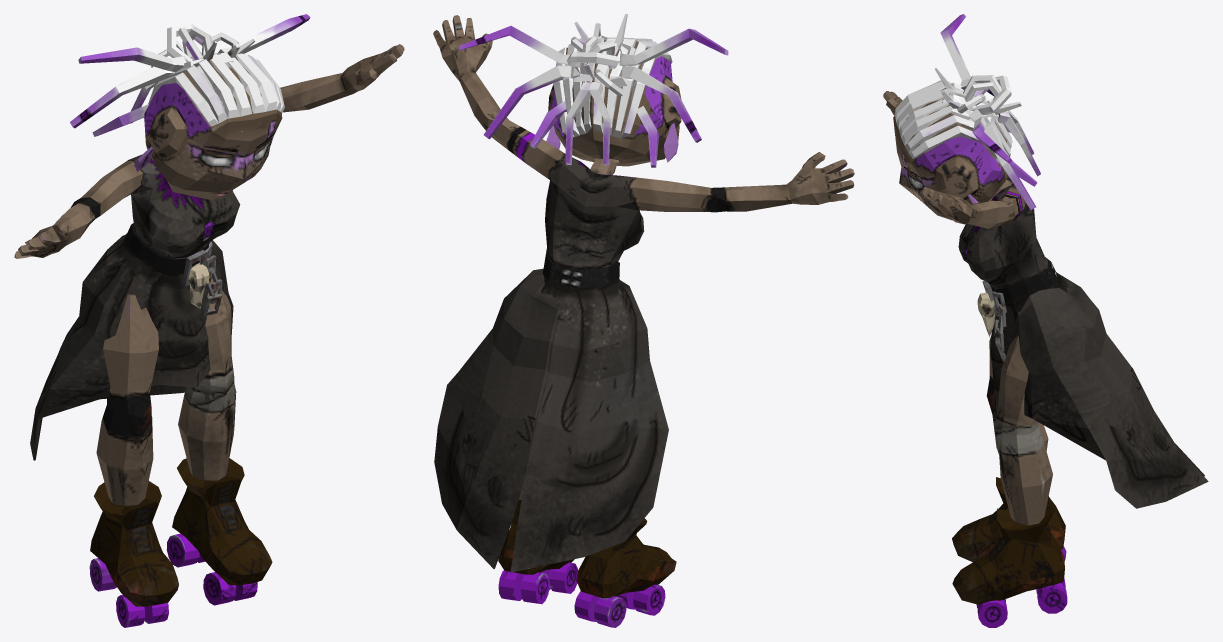
Rendered from bruja_000141.obj.
3 views of the same model, side by side, from view 1: azimuth 30°, elevation 25°; view 2: azimuth 150°, elevation 25°; view 3: azimuth 270°, elevation 25° (orthographic). The views are drawn at different scales.
Parts seen in each view (by area): view 1: Bruja_Plane.001; view 2: Bruja_Plane.001; view 3: Bruja_Plane.001.
Part boxes in pixels (bbox=[...]): Bruja_Plane.001: bbox=[14, 14, 404, 627]; Bruja_Plane.001: bbox=[433, 14, 854, 627]; Bruja_Plane.001: bbox=[883, 14, 1208, 627].
Bounding box in the file's own units: 11.69 × 16.36 × 8.97.
